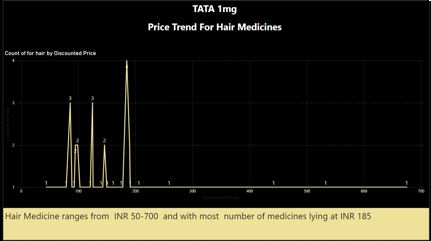

This screenshot's page, from the dashboard's own definition file:
{"tool":"powerbi","page":{"name":"PriceRange  vs KB","canvas":[1280,720],"ordinal":2},"visuals":[{"type":"lineChart","fields":{"Category":["1Mg_homeopathic.Discounted Price"],"Y":["CountNonNull(1Mg_homeopathic.for hair )"]},"box":[0,147.4,1269.9,457.3],"z":0},{"type":"textbox","box":[0,623.6,1279.4,96.4],"z":1000},{"type":"textbox","box":[0,0,1269.9,147.4],"z":2000}]}

Visuals, with their boxes in screenshot pixels (x1, y1, x2, y2), scaled from the page's 1280x720 canvas onto the 431x241 screenshot:
lineChart - 1Mg_homeopathic.Discounted Price x CountNonNull(1Mg_homeopathic.for hair ): 0, 49, 428, 202
textbox: 0, 209, 430, 240
textbox: 0, 0, 428, 49
